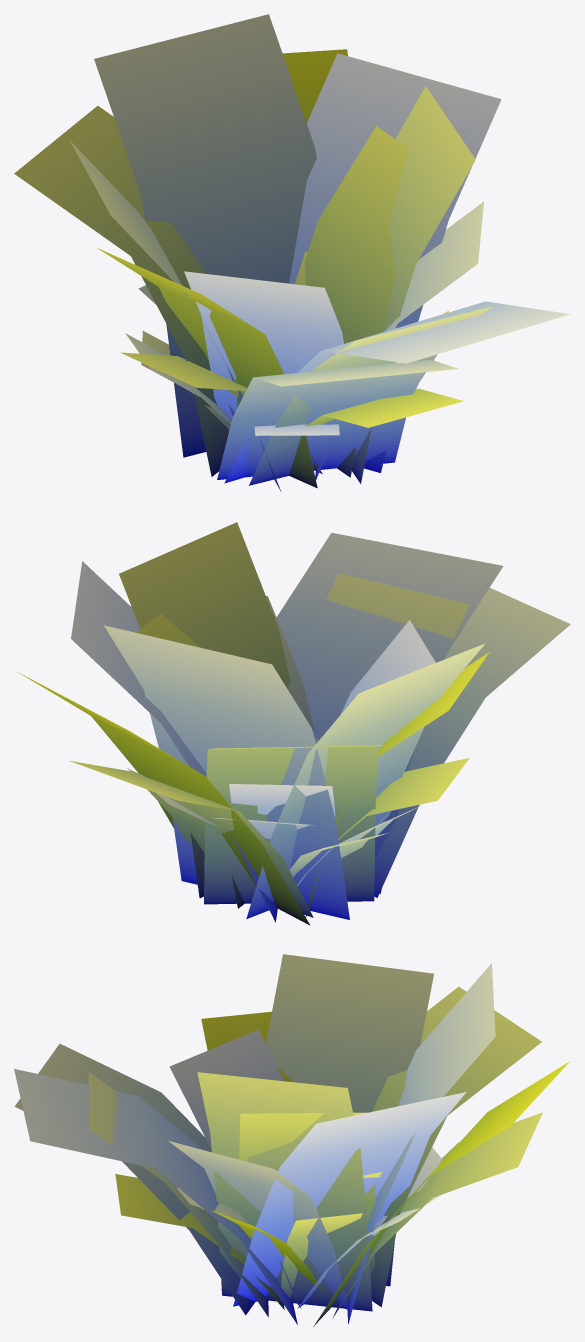
File: saltgrass_clumps.glb
The picture shows the model from 3 angles, top to bottom: view 1: azimuth 30°, elevation 25°; view 2: azimuth 150°, elevation 25°; view 3: azimuth 270°, elevation 25°; orthographic projection. The views are drawn at different scales.
Parts seen in each view (by area): view 1: saltgrass_a, saltgrass_b; view 2: saltgrass_a, saltgrass_b; view 3: saltgrass_a, saltgrass_b.
Part boxes in pixels (x1,y1,x2,y2): saltgrass_a: (14,14,570,491); saltgrass_b: (120,251,463,473); saltgrass_a: (17,522,570,925); saltgrass_b: (127,738,469,886); saltgrass_a: (14,954,569,1326); saltgrass_b: (115,1147,442,1309).
Size of what is drawn, in the model's own units: 0.9013 by 0.7061 by 1.24.
